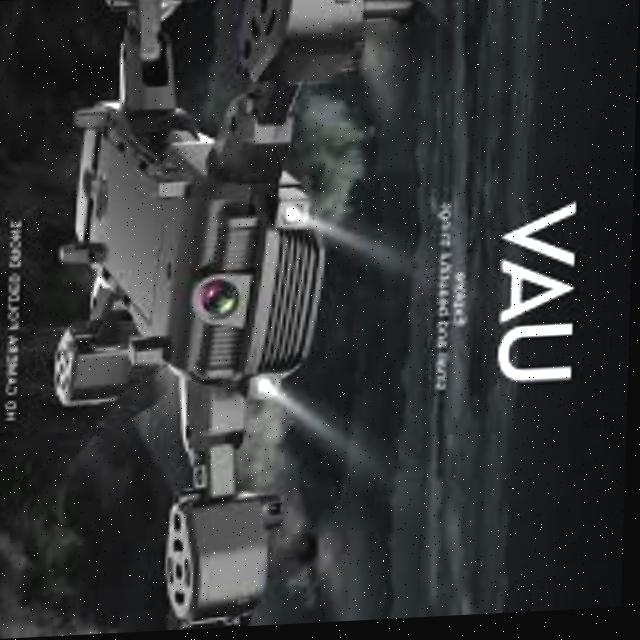drone: (36, 0, 418, 638)
